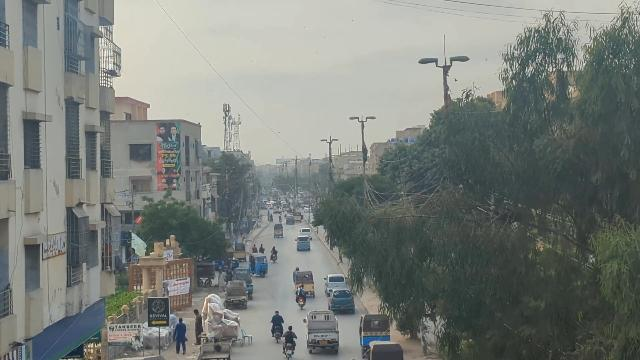Bike: (282, 339, 294, 360), (273, 325, 282, 343), (298, 296, 305, 311)
Car: (329, 289, 355, 313), (323, 273, 346, 294)
Person: (190, 306, 206, 348), (174, 318, 189, 358), (281, 324, 297, 344), (269, 309, 286, 326), (295, 282, 305, 297)
Rickshaw: (359, 313, 391, 348), (367, 340, 406, 360), (248, 252, 269, 278), (296, 271, 317, 296)
Suzuki: (303, 309, 340, 354), (224, 279, 249, 310)
